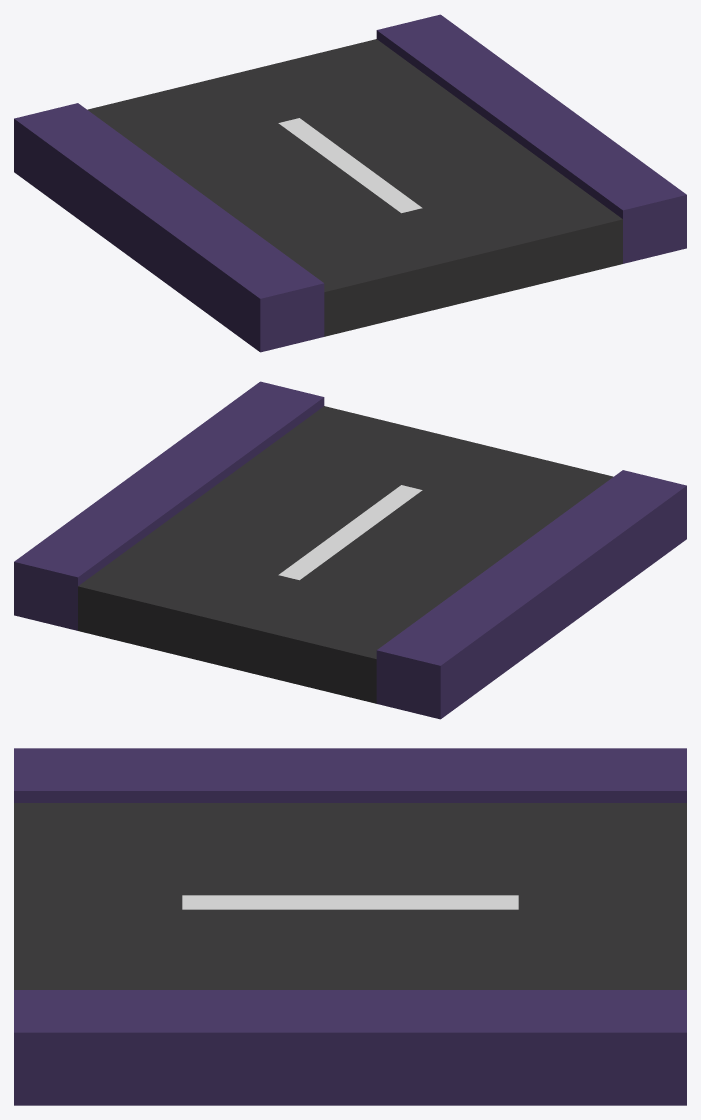
Rendered from Road.fbx.
3 views of the same model, one above another, from view 1: azimuth 30°, elevation 25°; view 2: azimuth 150°, elevation 25°; view 3: azimuth 270°, elevation 25° (orthographic). The views are drawn at different scales.
Parts seen in each view (by area): view 1: Cube; view 2: Cube; view 3: Cube.
Boxes of the visible parts, x1,y1,x2,y2 form: Cube: (14, 14, 686, 352); Cube: (14, 381, 686, 719); Cube: (14, 748, 686, 1105).
Size of the model in its own units: 1000 by 120 by 1000.
